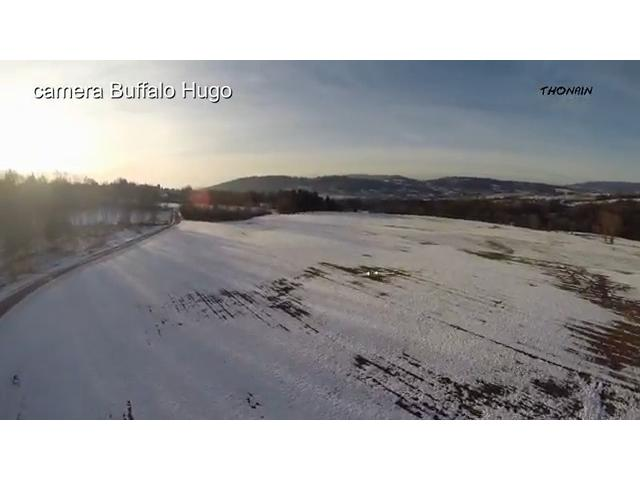Anti-Drone: (348, 269, 408, 285)
